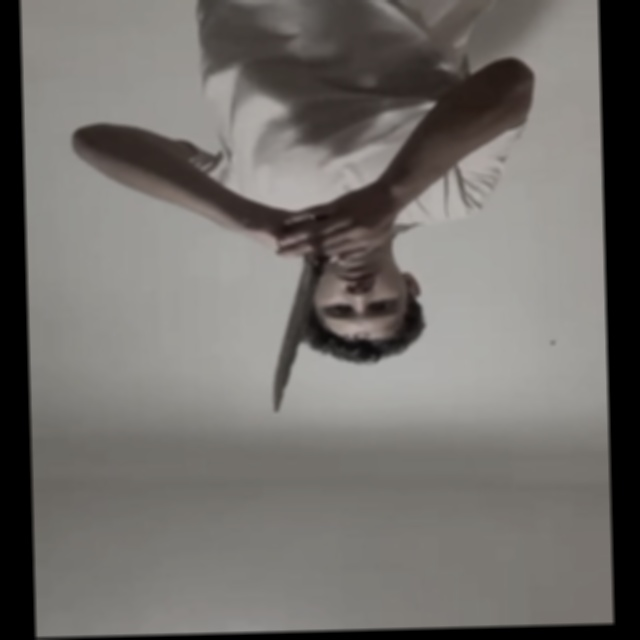Sharp-Object: (266, 261, 328, 408)
